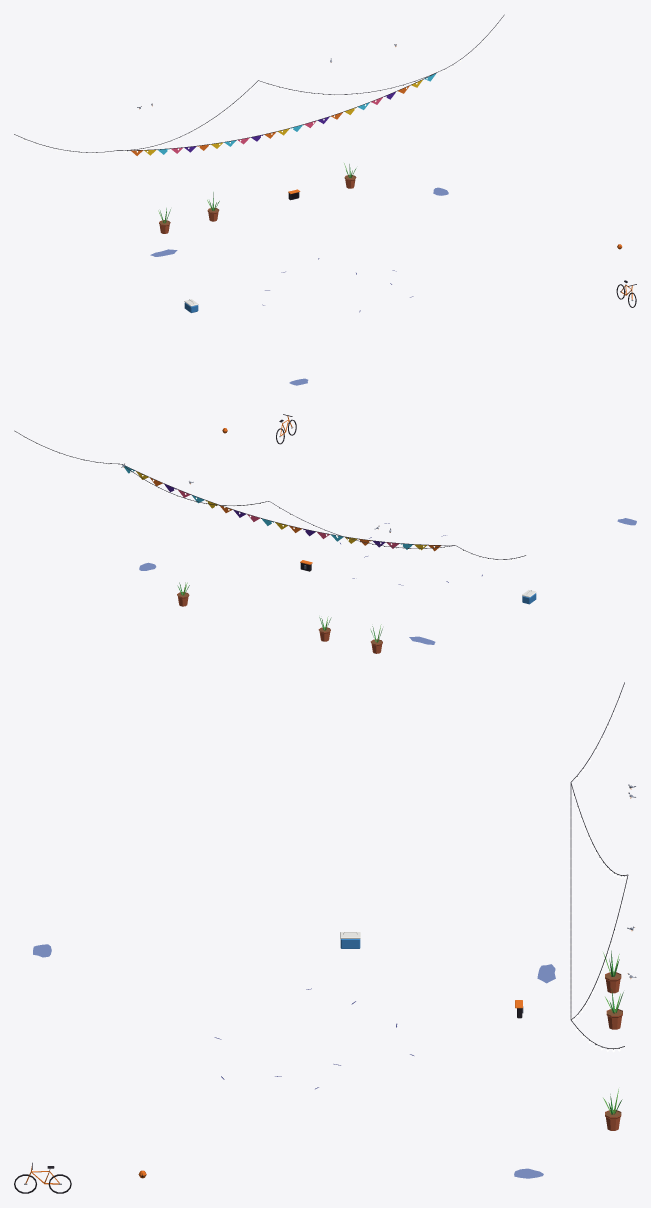
File: sb-extras.glb
The picture shows the model from 3 angles, top to bottom: view 1: azimuth 30°, elevation 25°; view 2: azimuth 150°, elevation 25°; view 3: azimuth 270°, elevation 25°; orthographic projection. The views are drawn at different scales.
Visible parts, largest first — view 1: Lights, Plants; view 2: Lights, Plants, Decals; view 3: Plants, Lights, Decals.
Part boxes in pixels (bbox=[...]): Lights: bbox=[14, 14, 504, 155]; Plants: bbox=[158, 163, 356, 233]; Lights: bbox=[14, 430, 525, 559]; Plants: bbox=[177, 582, 382, 653]; Decals: bbox=[139, 518, 636, 644]; Plants: bbox=[603, 950, 623, 1130]; Lights: bbox=[570, 682, 628, 1049]; Decals: bbox=[33, 944, 555, 1178].
Bounding box in the file's own units: 25.91 × 6.63 × 18.74.
